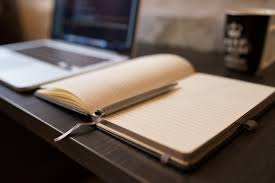Open Book: (40, 54, 275, 163)
